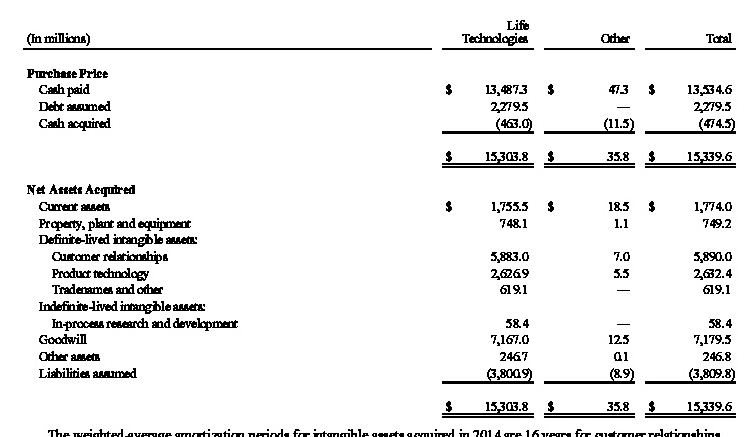table: (0, 0, 755, 437)
